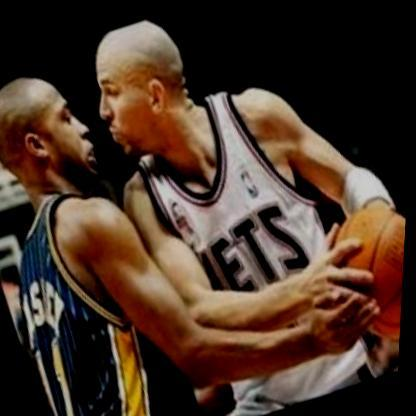basketball: (312, 183, 409, 354)
